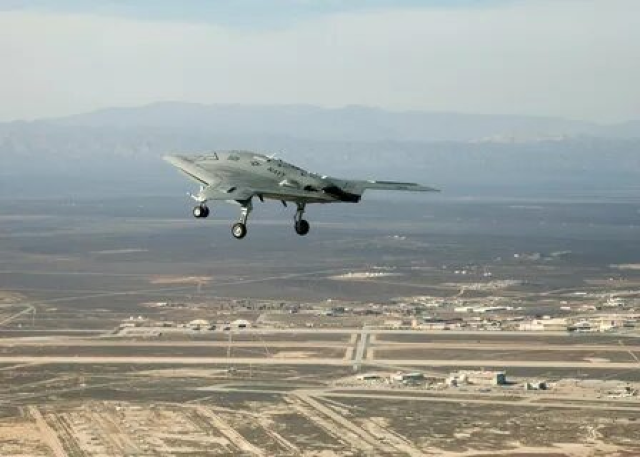military drone: (157, 147, 441, 239)
